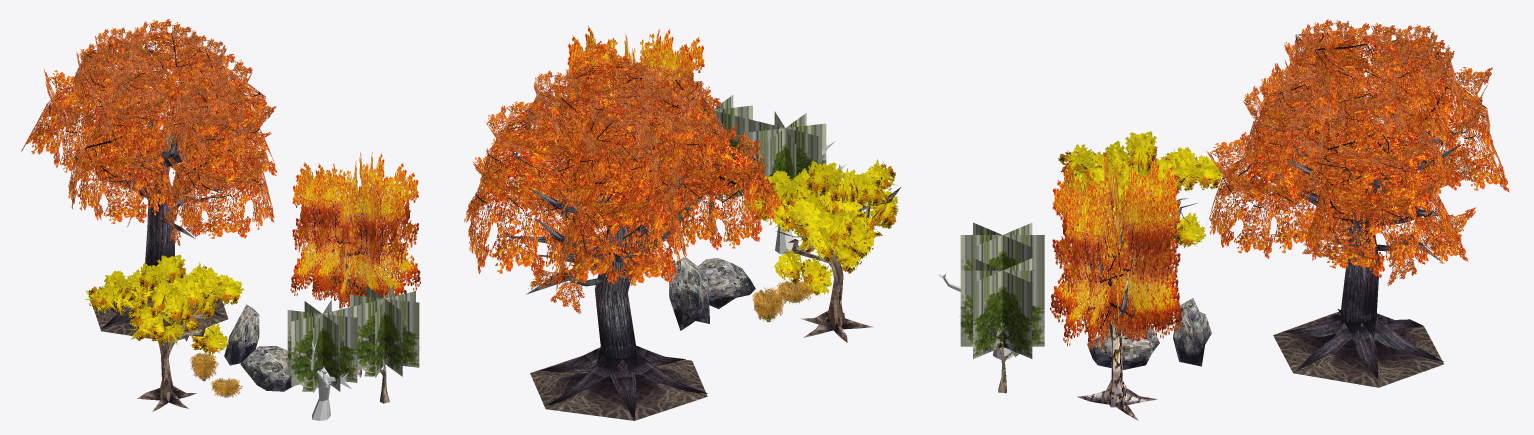
Rendered from TST_PSX_Tree.glb.
3 views of the same model, side by side, from view 1: azimuth 30°, elevation 25°; view 2: azimuth 150°, elevation 25°; view 3: azimuth 270°, elevation 25° (orthographic). The views are drawn at different scales.
Visible parts, largest first — view 1: BIG TREE.001_6, BIRCHTREE_5, SMALL TREE_4, Tree 1, Leaves.M2, ROCK_0, Leaves.M1, TALLER ROCK_1, Leaves.M3, DeadTree, Leaves.M4, bushes type 1_2 (+1 smaller); view 2: BIG TREE.001_6, SMALL TREE_4, BIRCHTREE_5, TALLER ROCK_1, ROCK_0, Tree 1, Leaves.M1, Leaves.M4, Leaves.M3, bushes type 1_2, bushes type 2_3, Leaves.M2 (+1 smaller); view 3: BIG TREE.001_6, BIRCHTREE_5, Tree 1, SMALL TREE_4, TALLER ROCK_1, ROCK_0, Leaves.M3, Leaves.M4, Leaves.M2.
Boxes of the visible parts, left/top/right/bottom form: BIG TREE.001_6: left=21, top=19, right=276, bottom=340; BIRCHTREE_5: left=290, top=152, right=420, bottom=377; SMALL TREE_4: left=85, top=254, right=244, bottom=411; Tree 1: left=350, top=284, right=419, bottom=403; Leaves.M2: left=287, top=310, right=357, bottom=382; ROCK_0: left=240, top=346, right=293, bottom=391; Leaves.M1: left=291, top=306, right=353, bottom=386; TALLER ROCK_1: left=224, top=304, right=259, bottom=365; Leaves.M3: left=304, top=301, right=340, bottom=391; DeadTree: left=310, top=341, right=361, bottom=420; Leaves.M4: left=313, top=300, right=331, bottom=392; bushes type 1_2: left=190, top=352, right=218, bottom=381; BIG TREE.001_6: left=464, top=41, right=786, bottom=420; SMALL TREE_4: left=740, top=159, right=900, bottom=342; BIRCHTREE_5: left=567, top=26, right=707, bottom=270; TALLER ROCK_1: left=669, top=257, right=709, bottom=330; ROCK_0: left=698, top=258, right=755, bottom=309; Tree 1: left=690, top=95, right=752, bottom=233; Leaves.M1: left=748, top=119, right=821, bottom=175; Leaves.M4: left=744, top=123, right=826, bottom=209; Leaves.M3: left=764, top=113, right=806, bottom=179; bushes type 1_2: left=752, top=287, right=785, bottom=322; bushes type 2_3: left=777, top=278, right=811, bottom=304; Leaves.M2: left=774, top=111, right=796, bottom=182; BIG TREE.001_6: left=1206, top=19, right=1509, bottom=387; BIRCHTREE_5: left=1050, top=150, right=1182, bottom=420; Tree 1: left=960, top=258, right=1044, bottom=393; SMALL TREE_4: left=1058, top=131, right=1222, bottom=248; TALLER ROCK_1: left=1173, top=298, right=1211, bottom=366; ROCK_0: left=1087, top=325, right=1159, bottom=369; Leaves.M3: left=960, top=235, right=1044, bottom=270; Leaves.M4: left=973, top=222, right=1032, bottom=270; Leaves.M2: left=973, top=223, right=1032, bottom=270.
Size of the model in its own units: 28.44 by 26.44 by 41.59.
7 materials, 7 textured.
